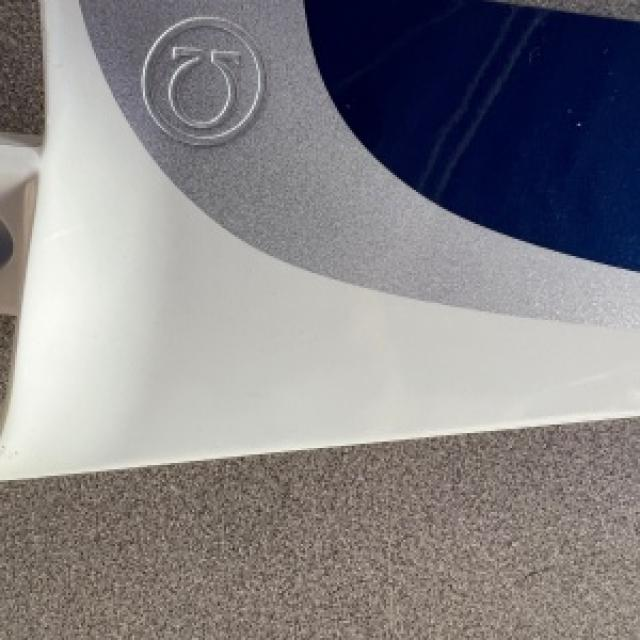healthy: (0, 0, 638, 478)
